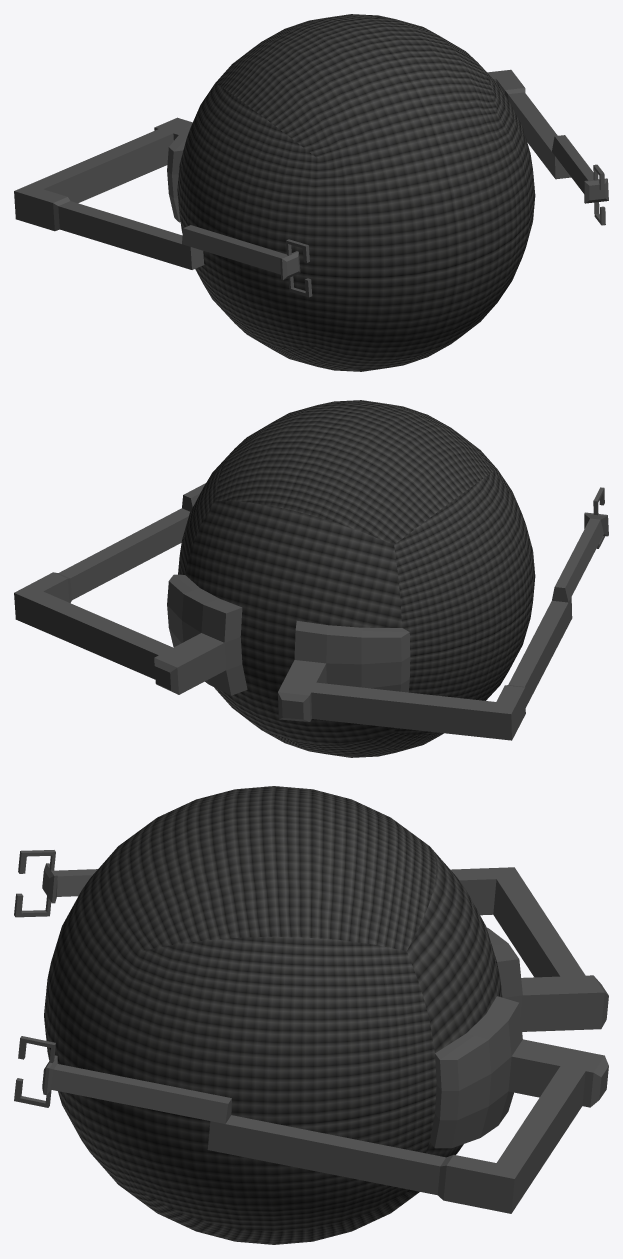
File: manager.fbx
The picture shows the model from 3 angles, top to bottom: view 1: azimuth 30°, elevation 25°; view 2: azimuth 150°, elevation 25°; view 3: azimuth 270°, elevation 25°; orthographic projection. The views are drawn at different scales.
Visible parts, largest first — view 1: Manager, arm; view 2: Manager, arm; view 3: Manager, arm.
Boxes of the visible parts, left/top/right/bottom form: Manager: left=177, top=14, right=535, bottom=371; arm: left=14, top=69, right=608, bottom=297; Manager: left=178, top=400, right=535, bottom=757; arm: left=14, top=483, right=608, bottom=740; Manager: left=44, top=786, right=502, bottom=1244; arm: left=14, top=850, right=608, bottom=1213.
Size of the model in its own units: 321 by 200 by 259.
2 materials, 1 textured.
